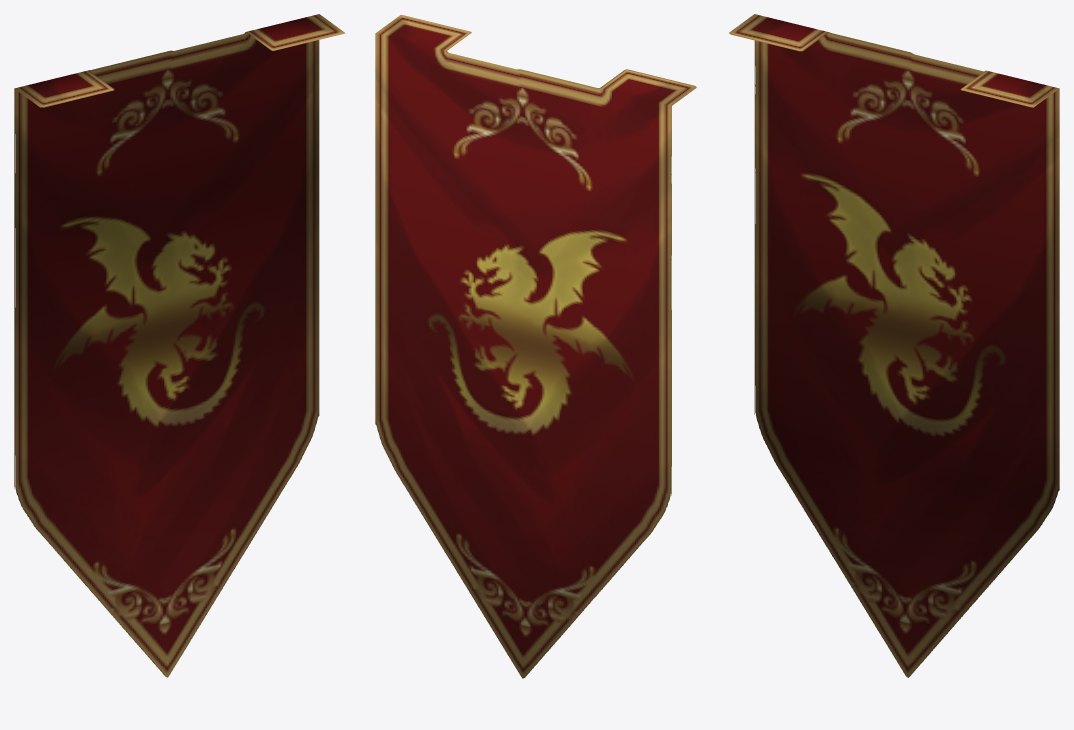
The model's file is qizi.FBX.
The picture shows the model from 3 angles, left to right: view 1: azimuth 30°, elevation 25°; view 2: azimuth 150°, elevation 25°; view 3: azimuth 330°, elevation 25°; orthographic projection. The views are drawn at different scales.
Parts seen in each view (by area): view 1: Plane01; view 2: Plane01; view 3: Plane01.
Part boxes in pixels (x1=…): Plane01: x1=14, y1=14, x2=345, y2=677; Plane01: x1=375, y1=15, x2=696, y2=678; Plane01: x1=729, y1=14, x2=1059, y2=677.
Size of the model in its own units: 41.06 by 80.66 by 6.38.
